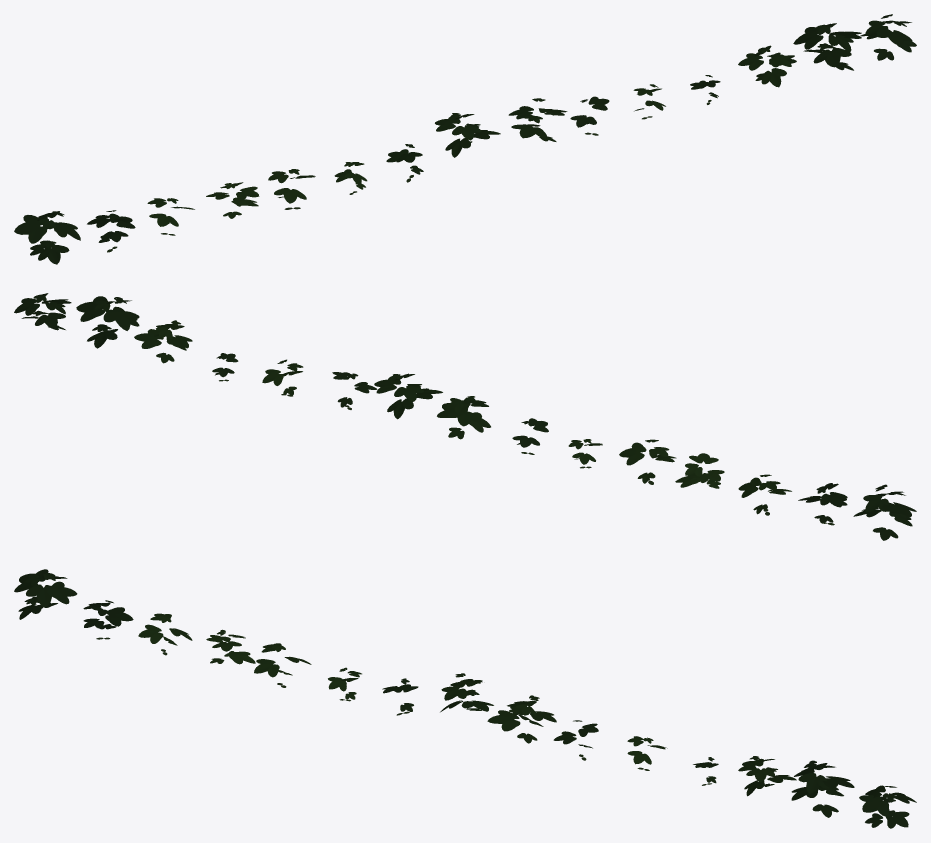
Rendered from ROW_08_SEG2_foliage.dae.
3 views of the same model, one above another, from view 1: azimuth 30°, elevation 25°; view 2: azimuth 150°, elevation 25°; view 3: azimuth 330°, elevation 25° (orthographic).
Parts seen in each view (by area): view 1: ROW_08_SEG2_foliage; view 2: ROW_08_SEG2_foliage; view 3: ROW_08_SEG2_foliage.
Part boxes in pixels (x1,y1,x2,y2): ROW_08_SEG2_foliage: (14, 14, 916, 264); ROW_08_SEG2_foliage: (14, 293, 916, 540); ROW_08_SEG2_foliage: (14, 569, 916, 828).
Size of the model in its own units: 4.52 by 0.3325 by 0.2636.
